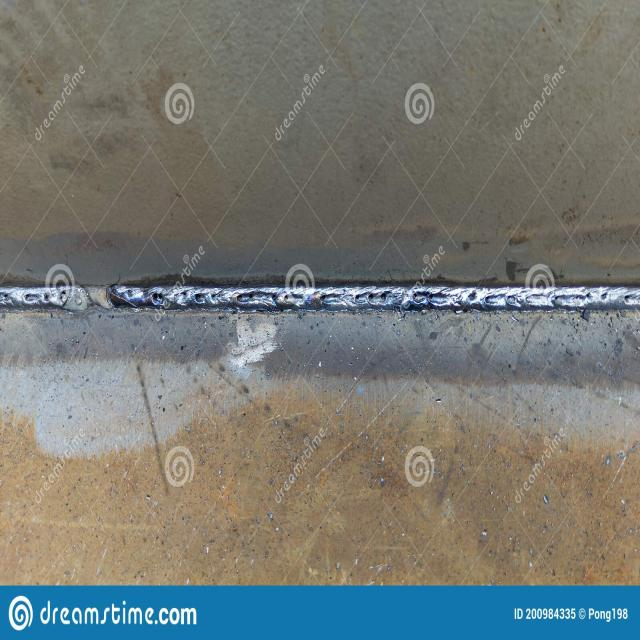Dry Waste: (1, 271, 639, 327)
